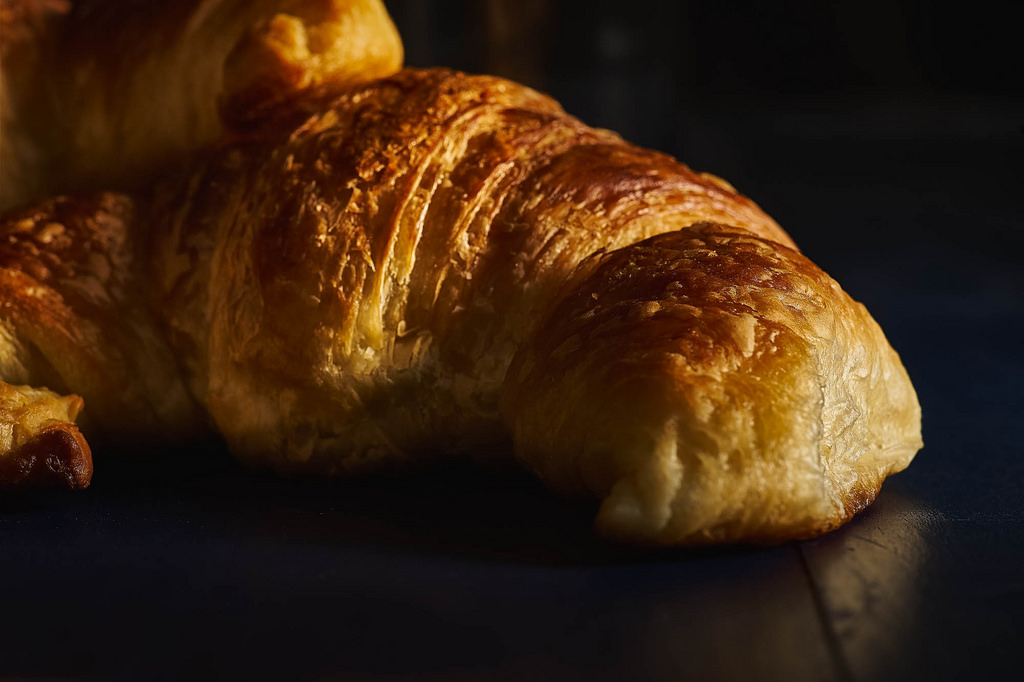slice of bread: (63, 46, 842, 477)
